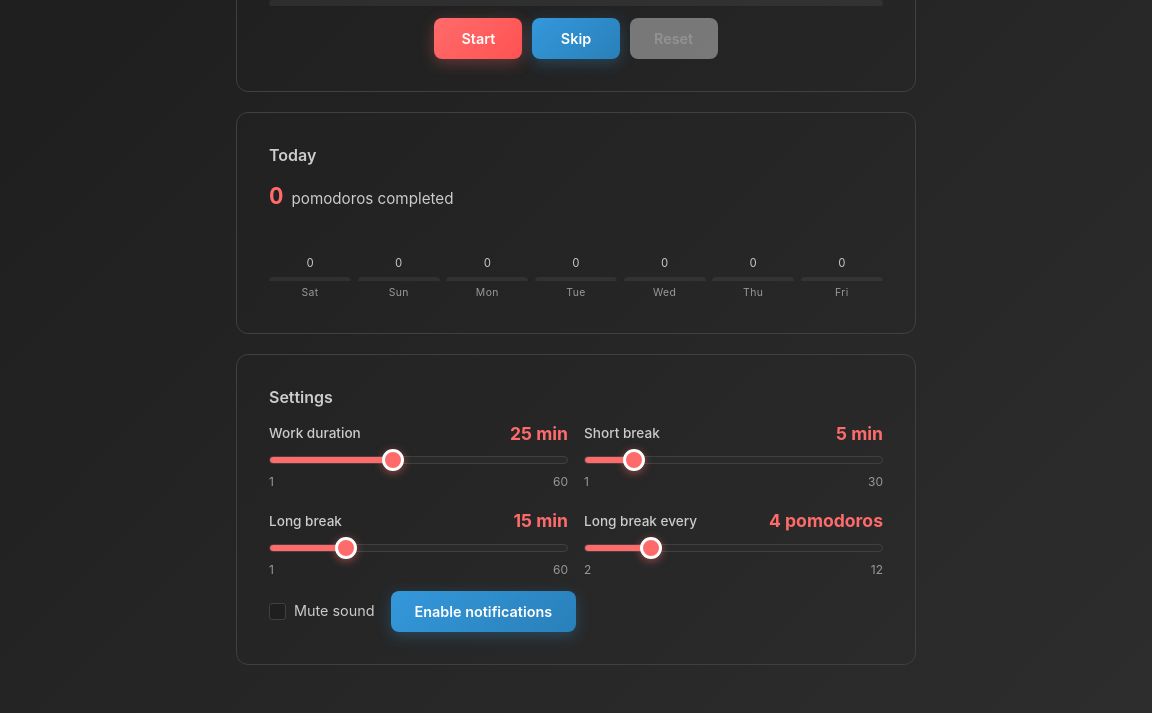
Test: <PomodoroTimer /> — notification toggle (4 states) › State A: requests permission and shows Disable button on grant
(page scrolled)
Click the button with aria-label "enable desktop notifications". click: (483, 611)
box: [391,591,576,632]
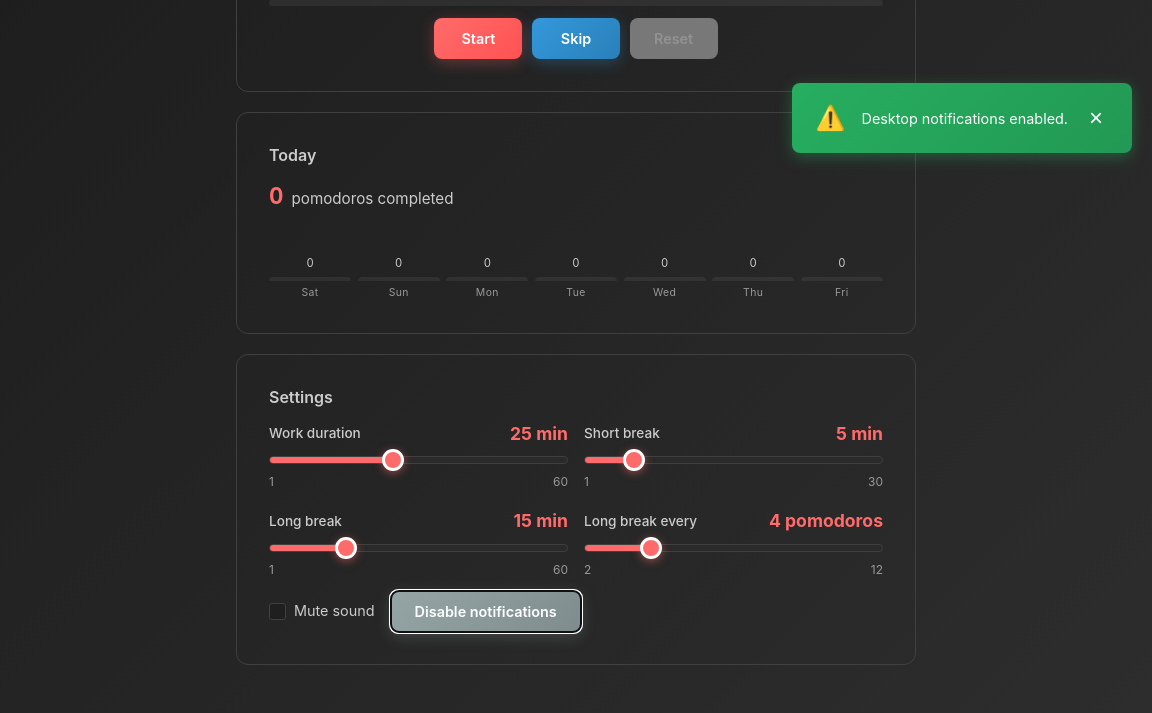
Expected: the button with aria-label "disable desktop notifications" is shown, [391,591,581,632]
Expected: the text "Desktop notifications enabled." is shown, [862,107,1068,130]
